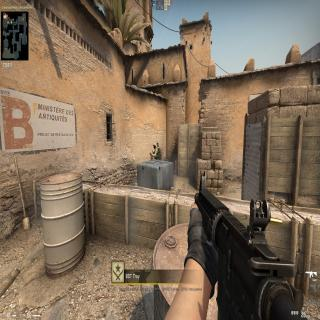CT-Head: (153, 142, 157, 150)
